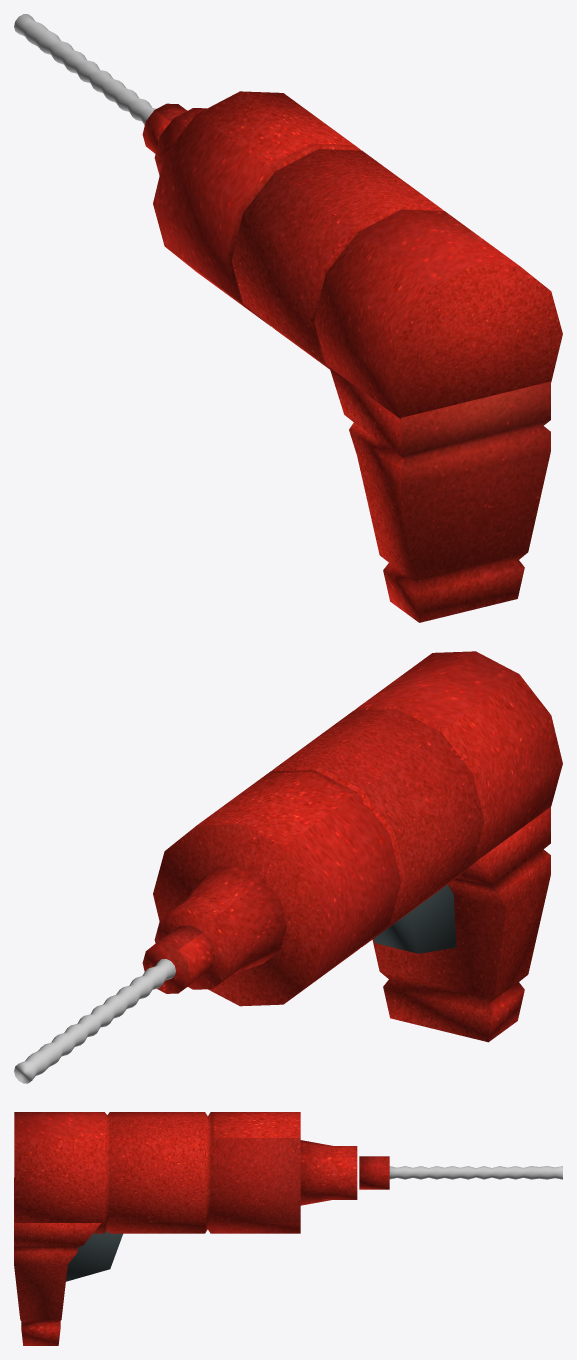
File: Drill.fbx
3 views of the same model, one above another, from view 1: azimuth 30°, elevation 25°; view 2: azimuth 150°, elevation 25°; view 3: azimuth 270°, elevation 25° (orthographic). The views are drawn at different scales.
Visible parts, largest first — view 1: Drill, DrillBit; view 2: Drill, DrillBit, OnOffTrigger; view 3: Drill, DrillBit, OnOffTrigger.
Part boxes in pixels (x1,y1,x2,y2): Drill: [142, 91, 562, 622]; DrillBit: [14, 14, 155, 125]; Drill: [142, 651, 562, 1042]; DrillBit: [14, 959, 175, 1083]; OnOffTrigger: [374, 884, 456, 953]; Drill: [14, 1112, 389, 1345]; DrillBit: [389, 1166, 562, 1179]; OnOffTrigger: [66, 1230, 122, 1281].
Bounding box in the file's own units: 0.3169 × 0.6126 × 1.43.
